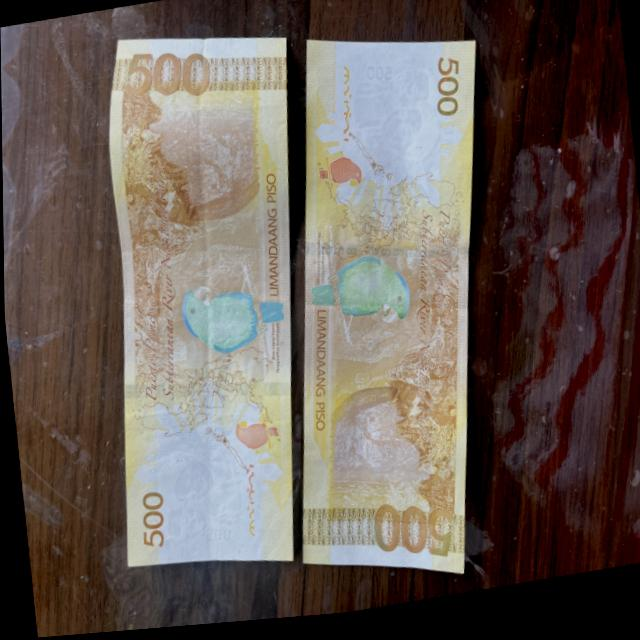500_big_parrot: (172, 274, 287, 368), (304, 258, 408, 340)
500_parrot_watermark: (231, 412, 280, 461), (311, 154, 363, 200)
value_watermark: (362, 63, 391, 93), (202, 523, 230, 546)
watermark: (345, 56, 443, 179), (157, 441, 246, 546)
